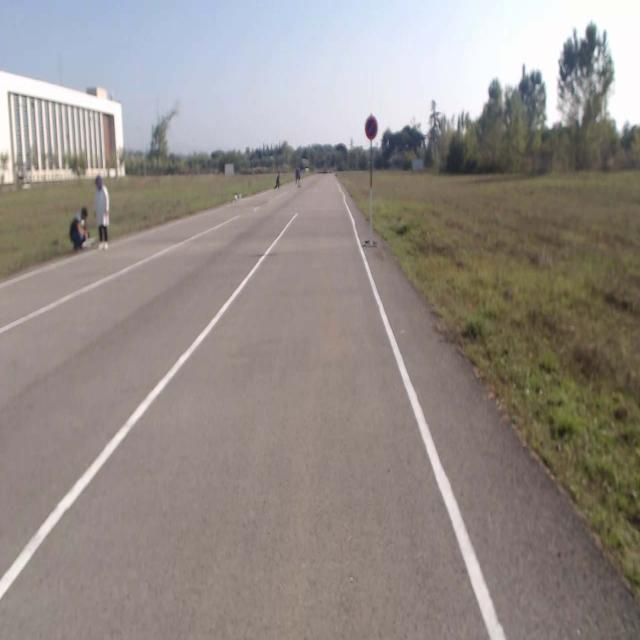parkyasak: (364, 116, 378, 140)
